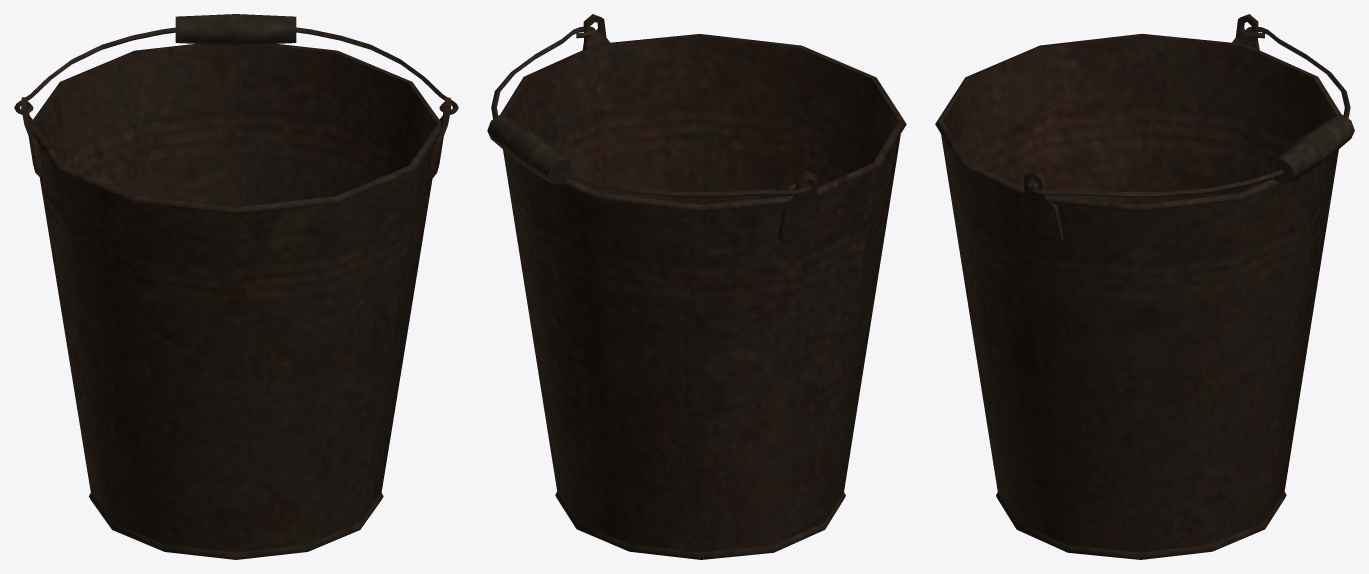
The model's file is bucket_mx_1.obj.
3 renders of one model, left to right at view 1: azimuth 30°, elevation 25°; view 2: azimuth 150°, elevation 25°; view 3: azimuth 270°, elevation 25°, orthographic.
Visible parts, largest first — view 1: bucket_mx_1; view 2: bucket_mx_1; view 3: bucket_mx_1.
Part boxes in pixels (<box>): bucket_mx_1: <box>14,14,458,559</box>; bucket_mx_1: <box>487,14,906,559</box>; bucket_mx_1: <box>935,14,1354,559</box>.
Size of the model in its own units: 0.43 by 0.4654 by 0.4359.
